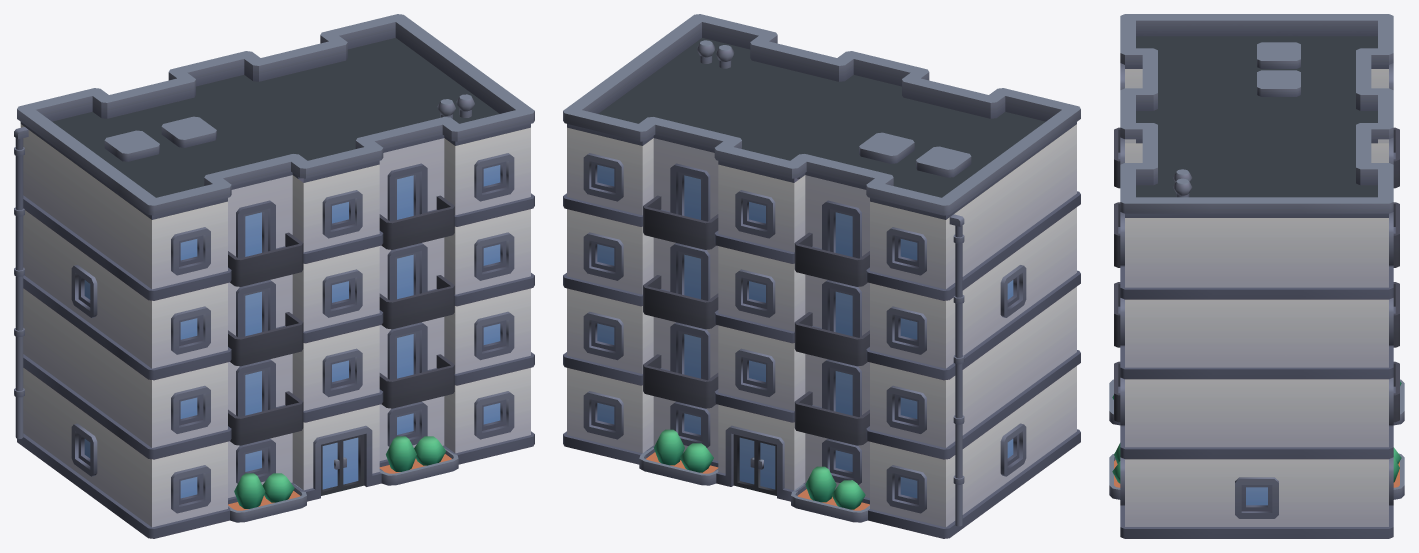
Rendered from k-city-kit-commercial-building-j.glb.
The picture shows the model from 3 angles, left to right: view 1: azimuth 30°, elevation 25°; view 2: azimuth 150°, elevation 25°; view 3: azimuth 270°, elevation 25°; orthographic projection.
Parts seen in each view (by area): view 1: building-j; view 2: building-j; view 3: building-j.
Part boxes in pixels (x1,y1,x2,y2): building-j: (14,14,534,538); building-j: (563,14,1080,538); building-j: (1109,14,1404,538).
Bounding box in the file's own units: 2.08 × 1.69 × 1.34.
Materials: 1 (1 with a texture image).
